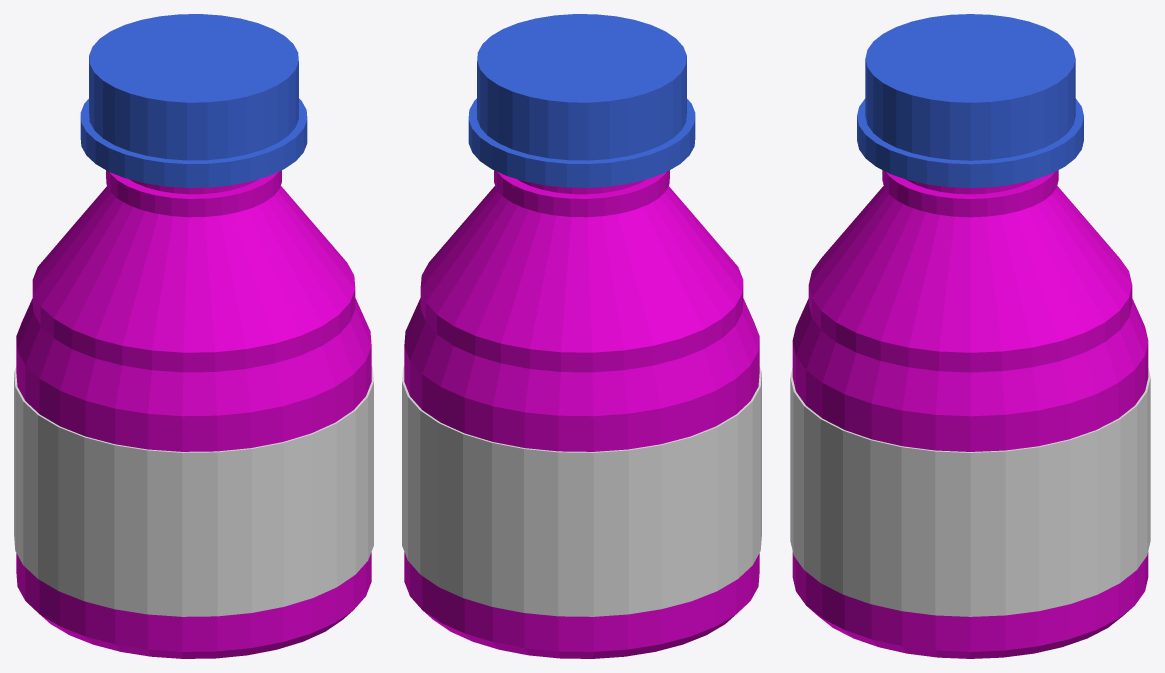
Rendered from Fles2-nonglass_cut.fbx.
3 renders of one model, left to right at view 1: azimuth 30°, elevation 25°; view 2: azimuth 150°, elevation 25°; view 3: azimuth 270°, elevation 25°, orthographic.
Parts seen in each view (by area): view 1: Cylinder.002, Cylinder.006, Cylinder.001, Cylinder.005, Cylinder, Cylinder.007, Cylinder.008, Cylinder.012, Cylinder.011, Cylinder.009, Cylinder.004; view 2: Cylinder.002, Cylinder.001, Cylinder.003, Cylinder.010, Cylinder, Cylinder.004, Cylinder.006, Cylinder.009, Cylinder.011, Cylinder.008; view 3: Cylinder.002, Cylinder.001, Cylinder.005, Cylinder.010, Cylinder.003, Cylinder, Cylinder.004, Cylinder.006, Cylinder.007, Cylinder.012.
Part boxes in pixels (bbox=[...]): Cylinder.002: bbox=[14, 365, 373, 616]; Cylinder.006: bbox=[16, 239, 351, 449]; Cylinder.001: bbox=[80, 14, 307, 187]; Cylinder.005: bbox=[215, 266, 371, 658]; Cylinder: bbox=[16, 179, 345, 641]; Cylinder.007: bbox=[120, 211, 350, 352]; Cylinder.008: bbox=[39, 580, 251, 658]; Cylinder.012: bbox=[128, 170, 281, 217]; Cylinder.011: bbox=[25, 567, 85, 636]; Cylinder.009: bbox=[106, 170, 140, 209]; Cylinder.004: bbox=[16, 236, 370, 350]; Cylinder.002: bbox=[402, 365, 761, 616]; Cylinder.001: bbox=[468, 14, 695, 187]; Cylinder.003: bbox=[404, 322, 715, 658]; Cylinder.010: bbox=[404, 170, 616, 416]; Cylinder: bbox=[483, 172, 714, 649]; Cylinder.004: bbox=[420, 244, 721, 413]; Cylinder.006: bbox=[592, 203, 759, 443]; Cylinder.009: bbox=[538, 171, 669, 352]; Cylinder.011: bbox=[716, 555, 758, 625]; Cylinder.008: bbox=[655, 553, 759, 651]; Cylinder.002: bbox=[790, 367, 1150, 616]; Cylinder.001: bbox=[857, 14, 1083, 187]; Cylinder.005: bbox=[792, 285, 1084, 658]; Cylinder.010: bbox=[911, 170, 1132, 410]; Cylinder.003: bbox=[970, 298, 1148, 653]; Cylinder: bbox=[873, 175, 1059, 332]; Cylinder.004: bbox=[861, 258, 1131, 414]; Cylinder.006: bbox=[812, 216, 895, 334]; Cylinder.007: bbox=[809, 189, 910, 334]; Cylinder.012: bbox=[882, 170, 970, 216].
Bounding box in the file's own units: 36.8 × 60.62 × 36.8.
